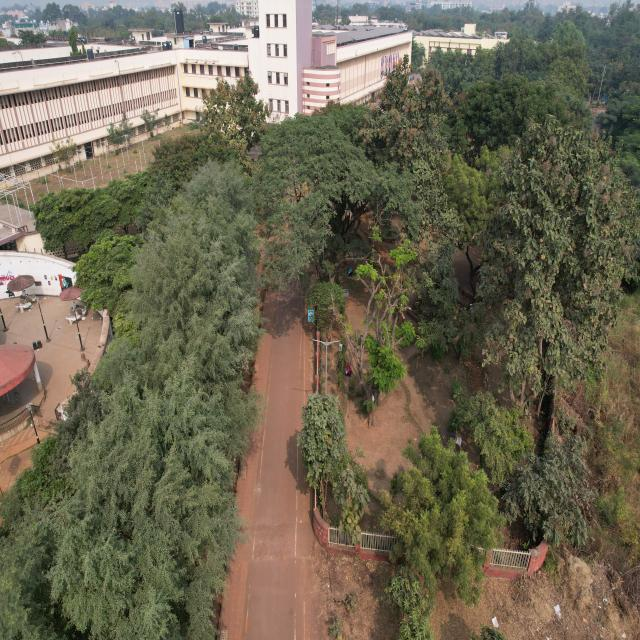Neem Tree: (396, 462, 495, 591), (453, 158, 499, 234)
